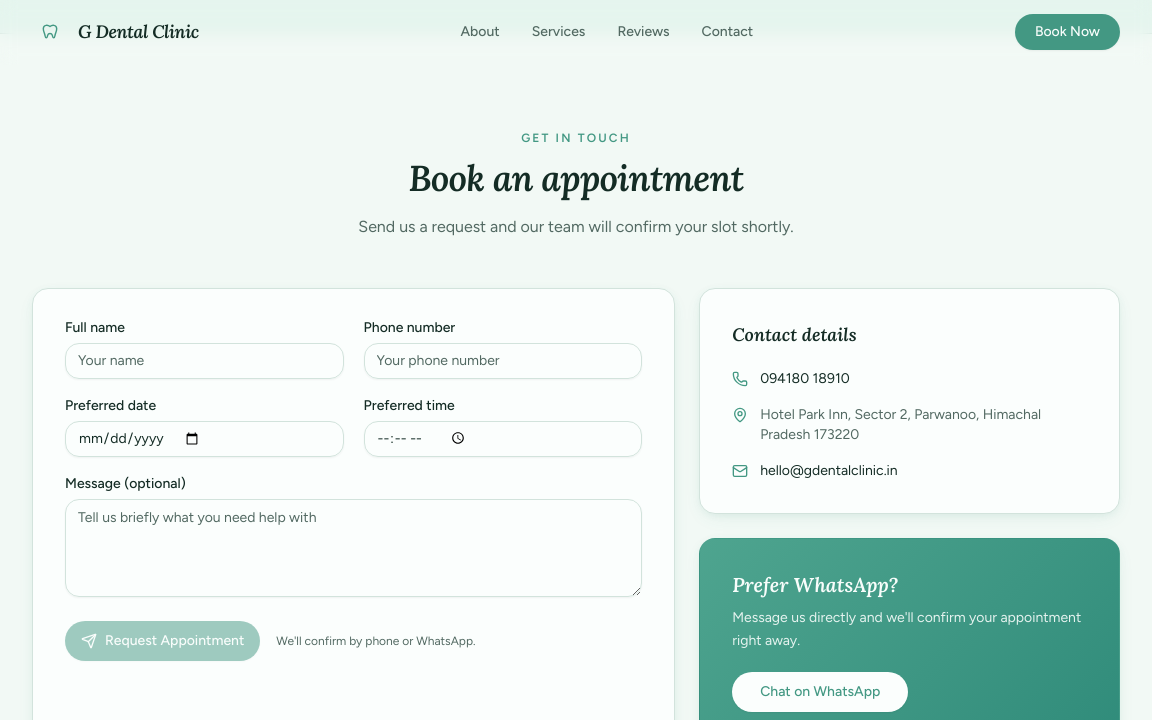
Scenario: clinic landing page › keeps the submit button disabled until required fields are filled
The width and height of the screenshot is (1152, 720).
(page scrolled)
Expected: the button "Request Appointment" is disabled, top-left (65, 621), bottom-right (260, 661)
In the field labelled "Full name": (204, 361) top-left (65, 343), bottom-right (344, 379), type "Ananya"
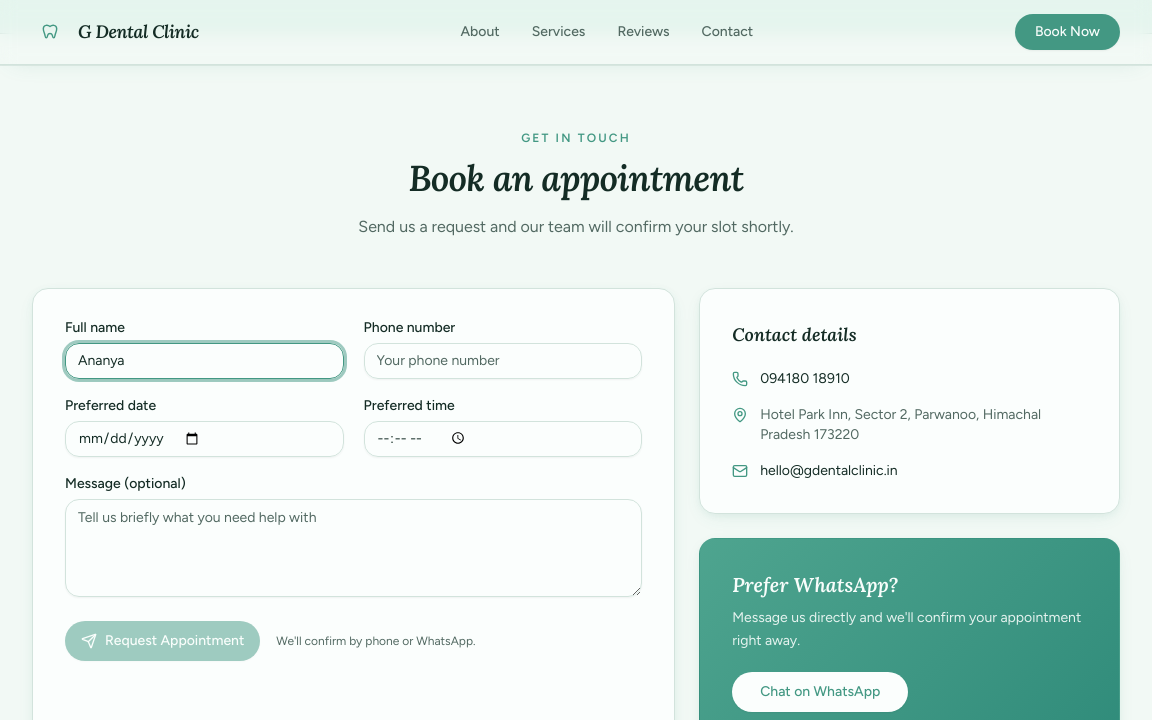
In the field labelled "Phone number": (503, 361) top-left (364, 343), bottom-right (642, 379), type "9418018910"
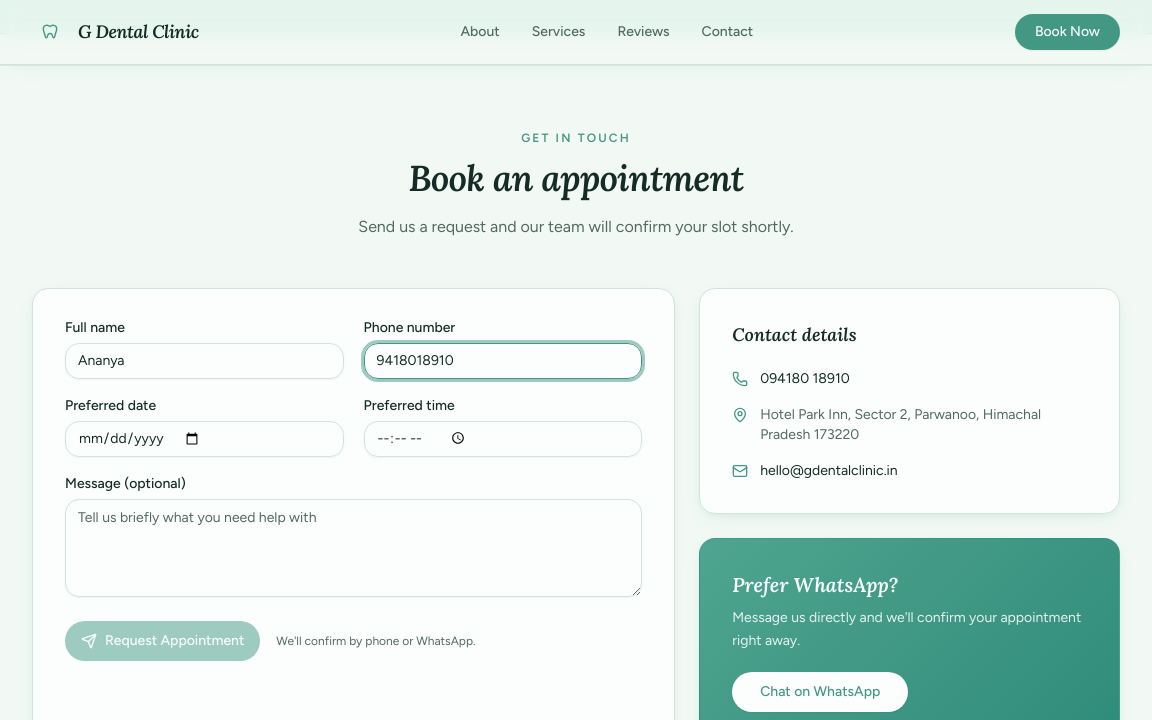
Expected: the button "Request Appointment" is disabled, top-left (65, 621), bottom-right (260, 661)
In the date field labelled "Preferred date": (204, 439) top-left (65, 421), bottom-right (344, 457), type "2026-11-05"
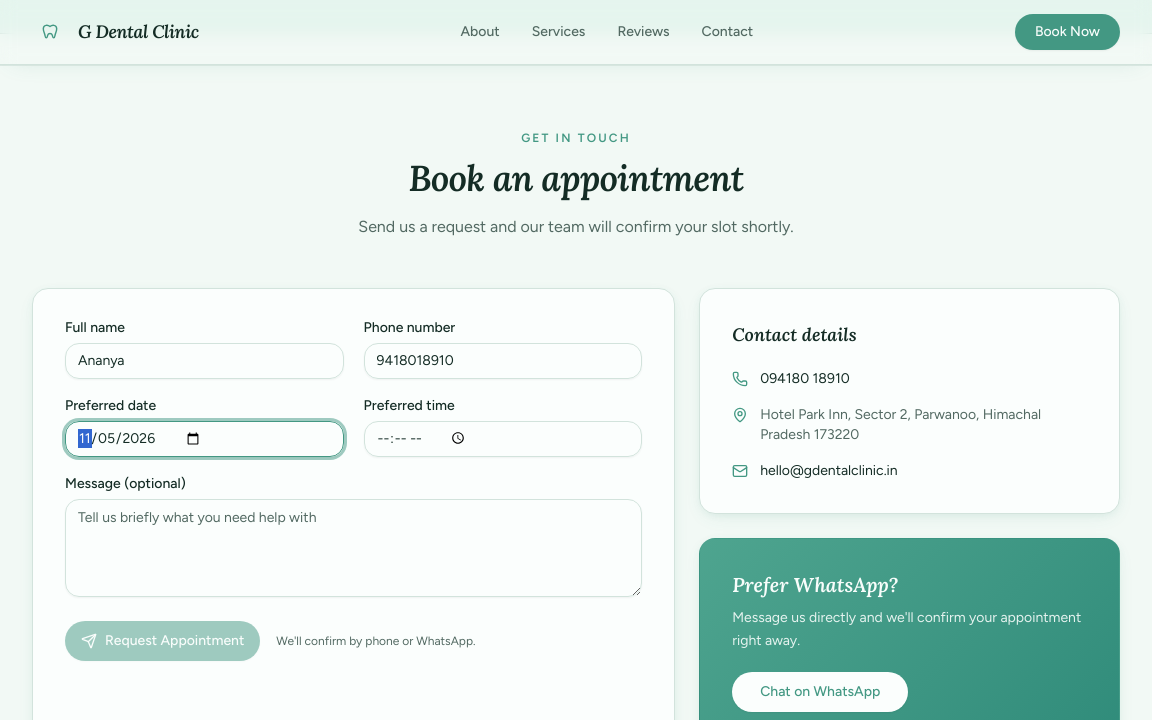
In the time field labelled "Preferred time": (503, 439) top-left (364, 421), bottom-right (642, 457), type "10:30"
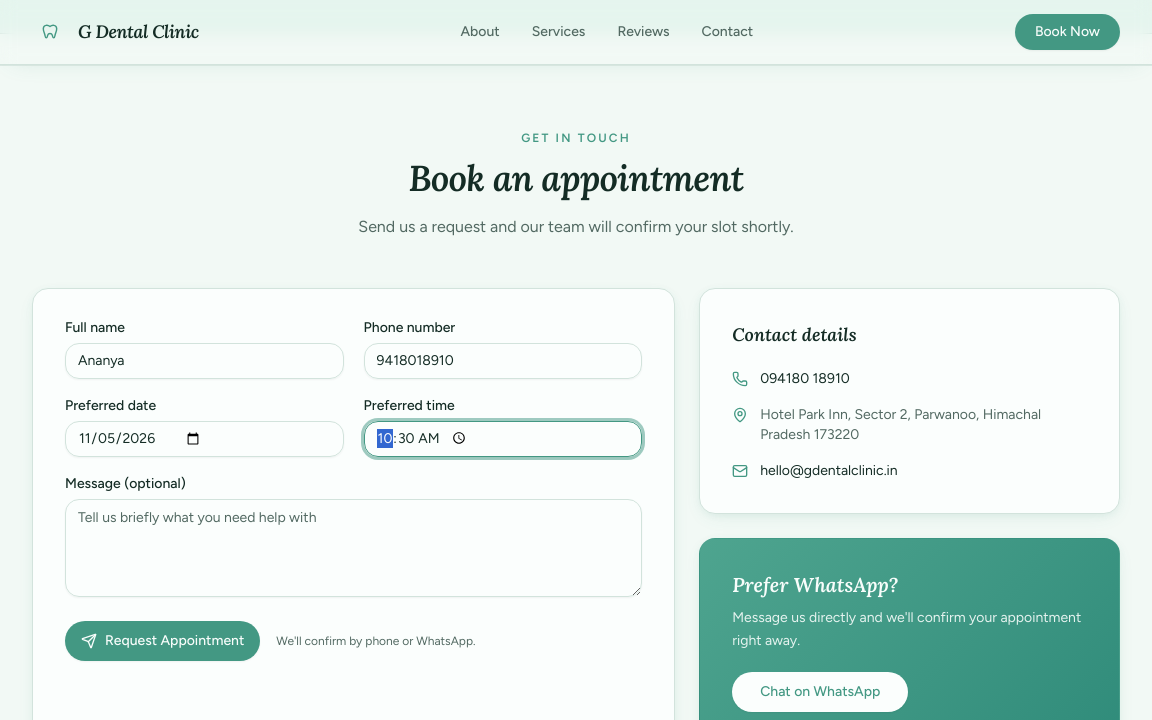
Expected: the button "Request Appointment" is enabled, top-left (65, 621), bottom-right (260, 661)
